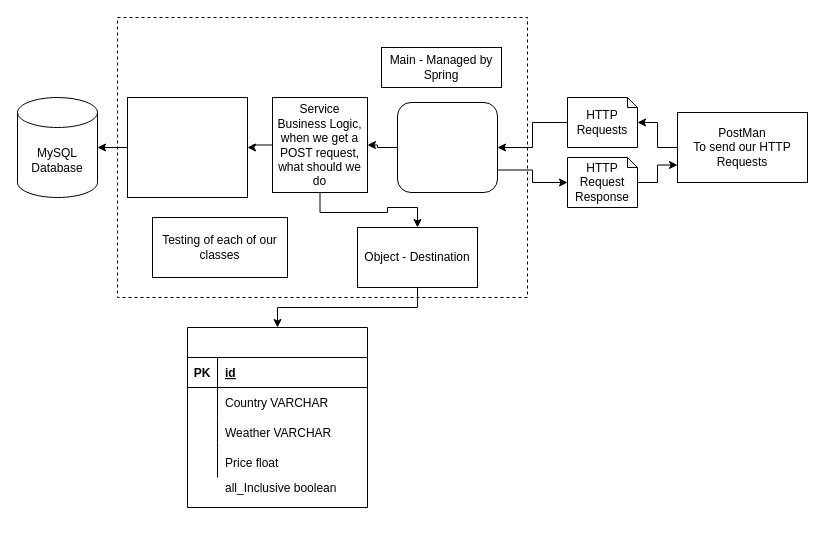
This 825x550 diagram has some shape labels left out. The box of each missing label's shape, as (x1, y1, x2, y2) in pixels:
Controller Taking in requests and putting them in the right place: (396, 102, 498, 192)
Holiday Bookings: (186, 326, 368, 508)
Repo Creates methods to modify and query database: (126, 96, 248, 198)
Spring Project - Holiday Bookings: (116, 16, 528, 298)
